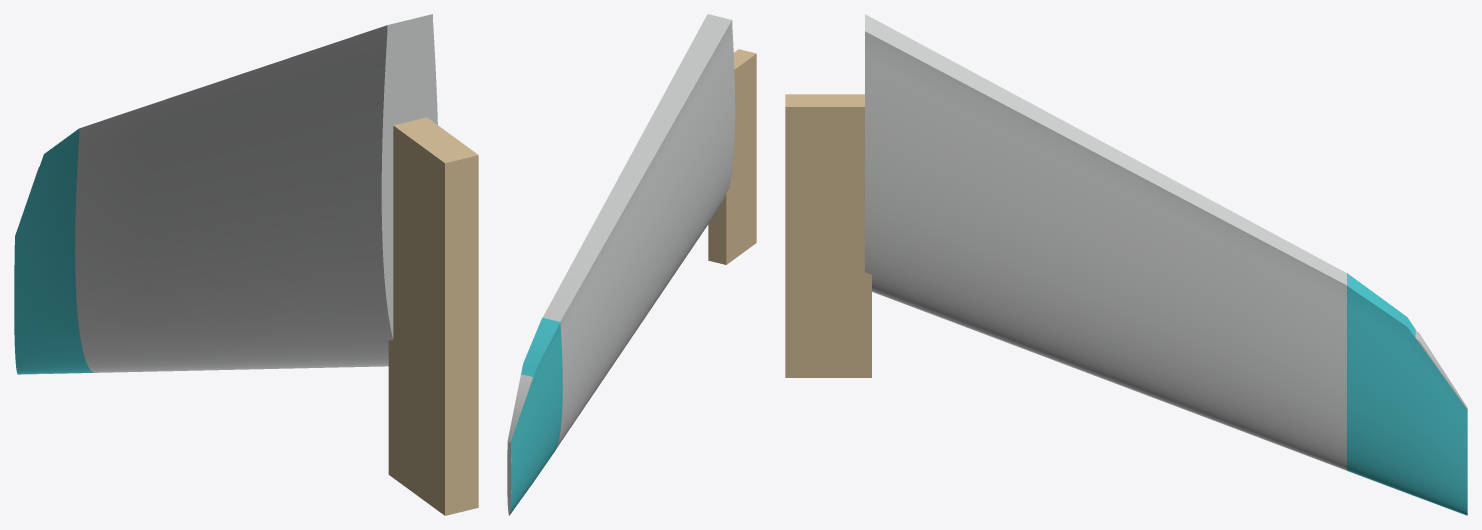
Rendered from estab_v.glb.
3 views of the same model, side by side, from view 1: azimuth 30°, elevation 25°; view 2: azimuth 150°, elevation 25°; view 3: azimuth 270°, elevation 25° (orthographic). The views are drawn at different scales.
Parts seen in each view (by area): view 1: EstabilizadorV; view 2: EstabilizadorV; view 3: EstabilizadorV.
Boxes of the visible parts, bbox=[...] form: EstabilizadorV: bbox=[14, 14, 478, 515]; EstabilizadorV: bbox=[507, 14, 756, 515]; EstabilizadorV: bbox=[785, 14, 1467, 515].
Bounding box in the file's own units: 0.0105 × 0.1129 × 0.1415.
